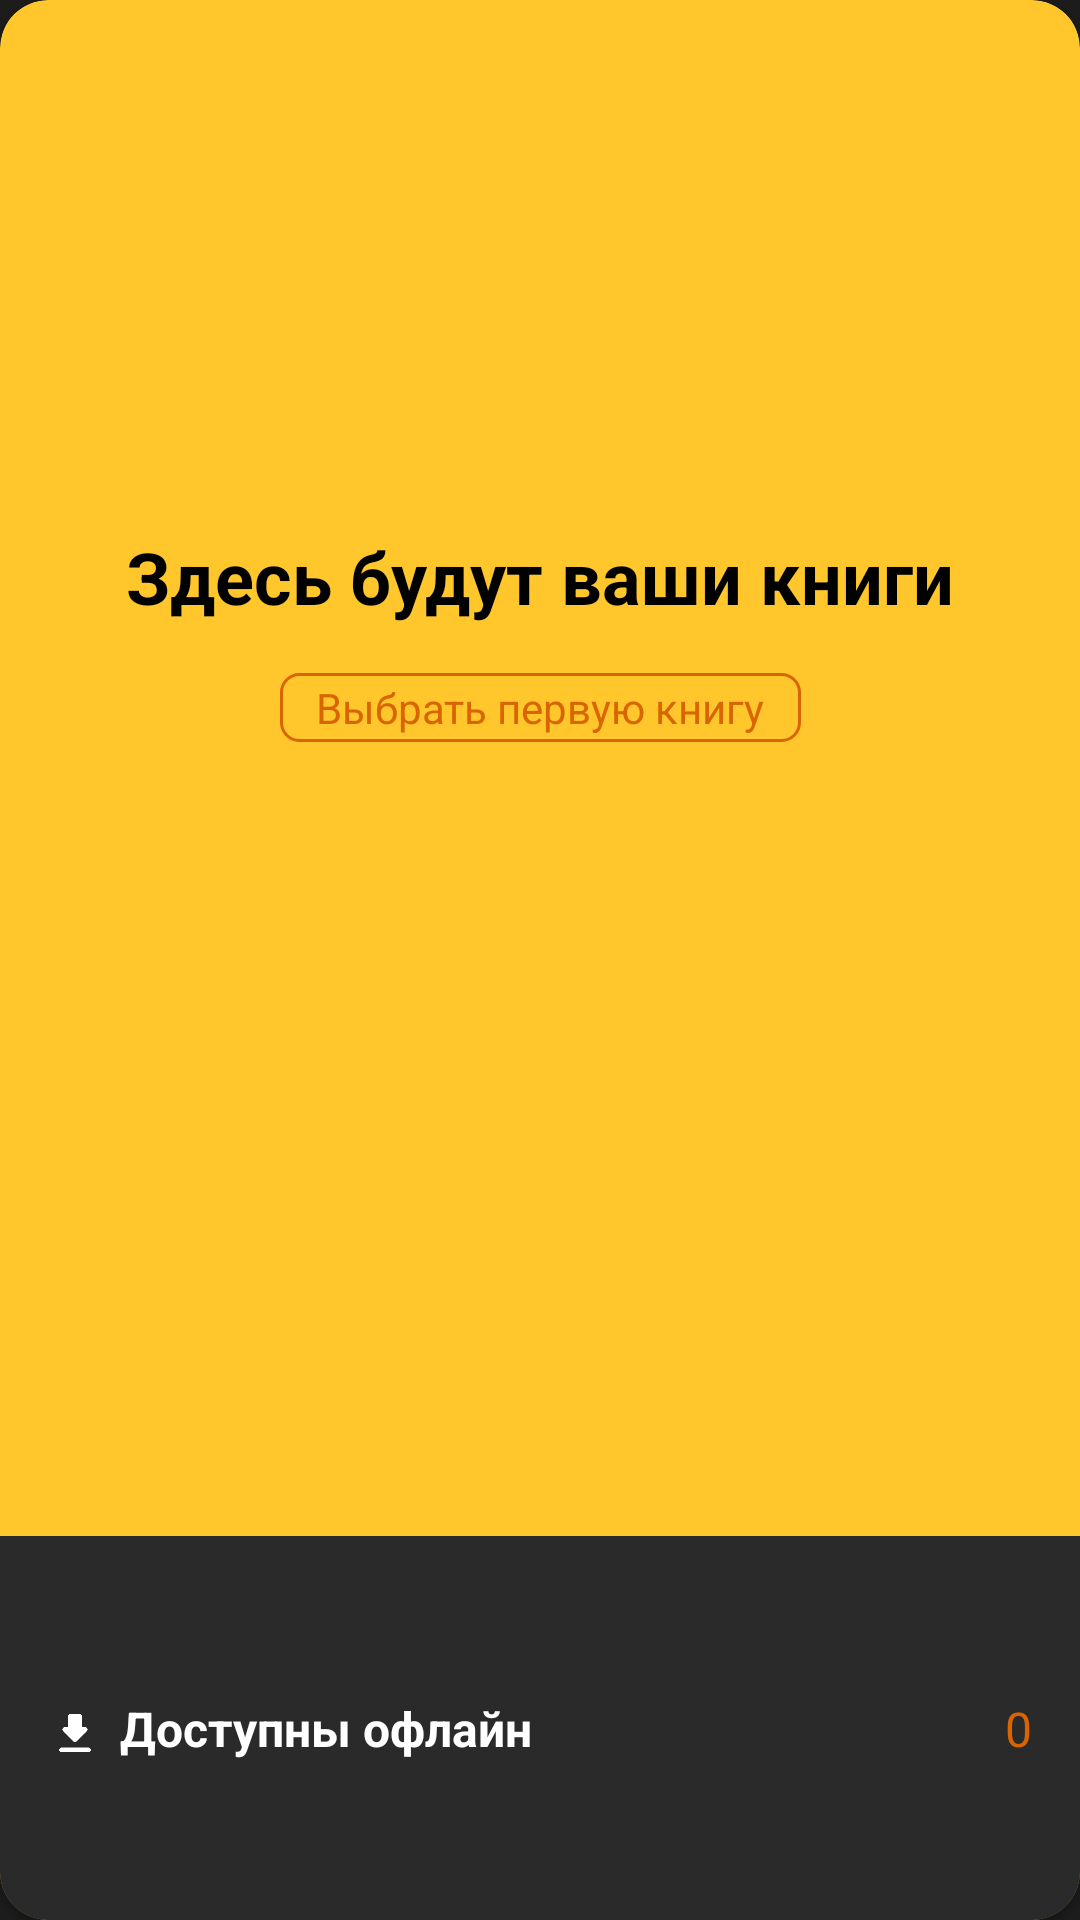

Icons on this 1080w x 1920h Android screen, each with its box as Rect(x1, y1, x2, y2):
download: Rect(59, 1714, 91, 1752)
